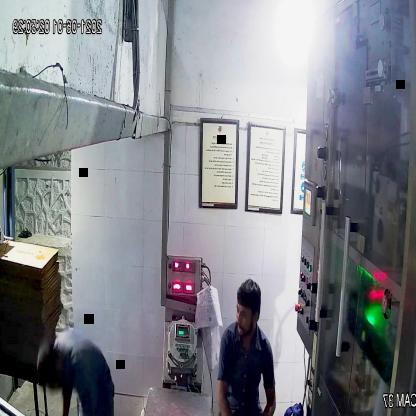no_goggles: (233, 303, 263, 327)
